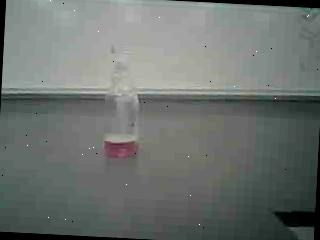hazard: (94, 40, 150, 163)
